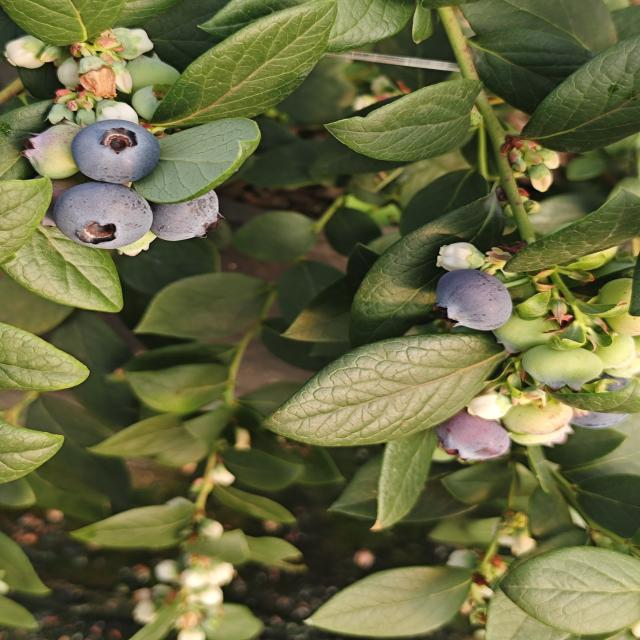ripe: (51, 180, 156, 252), (69, 118, 162, 186), (149, 175, 230, 244), (432, 267, 516, 333), (552, 368, 632, 434), (433, 410, 513, 465)
